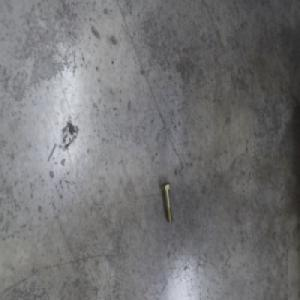Bolt: (162, 181, 175, 225)
